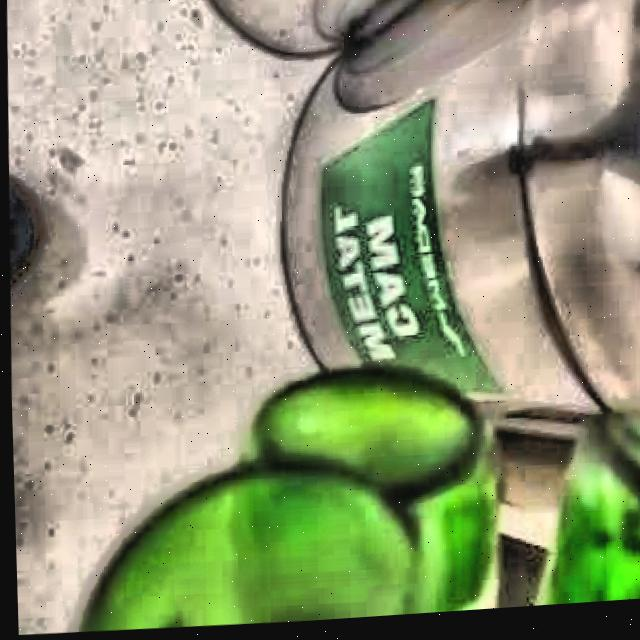glass: (78, 376, 494, 632)
